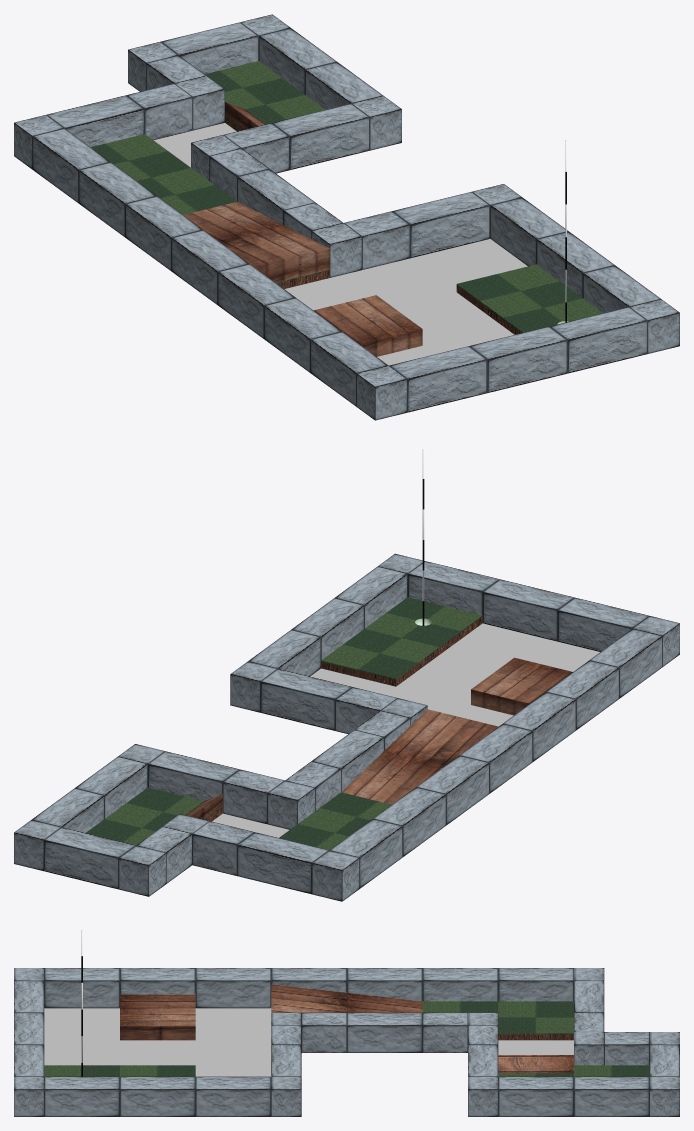
3 renders of one model, top to bottom at view 1: azimuth 30°, elevation 25°; view 2: azimuth 150°, elevation 25°; view 3: azimuth 270°, elevation 25°, orthographic. The views are drawn at different scales.
Parts seen in each view (by area): view 1: barrier2, barrier1, barrier3, grassland, square, pool, platform; view 2: barrier2, barrier1, barrier3, grassland, square, platform, pool; view 3: barrier1, barrier3, pool, barrier2, square, platform, grassland.
Boxes of the visible parts, x1,y1,x2,y2 form: barrier2: (126, 22, 647, 412); barrier1: (46, 28, 660, 313); barrier3: (32, 128, 388, 406); grassland: (90, 61, 602, 334); square: (14, 14, 679, 420); pool: (154, 123, 527, 365); platform: (183, 102, 422, 356); barrier2: (44, 561, 649, 889); barrier1: (31, 566, 407, 894); barrier3: (330, 628, 662, 888); grassland: (86, 597, 482, 850); square: (14, 553, 679, 901); platform: (185, 657, 572, 819); pool: (212, 623, 599, 837); barrier1: (44, 980, 649, 1116); barrier3: (44, 968, 573, 1008); pool: (44, 1008, 573, 1076); barrier2: (14, 980, 679, 1076); square: (14, 968, 679, 1116); platform: (120, 984, 573, 1073); grassland: (44, 1001, 649, 1076).
Size of the model in its own units: 38 by 23 by 88.
